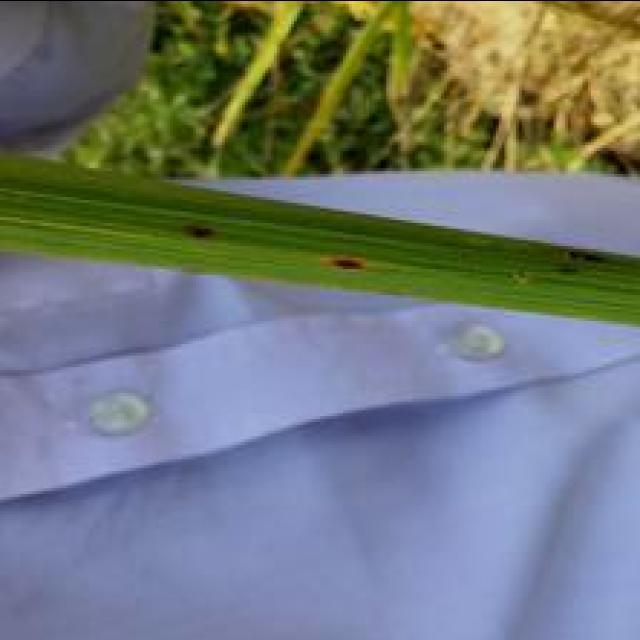Brown_Spot: (530, 245, 596, 277), (303, 248, 367, 280), (168, 231, 208, 245)
